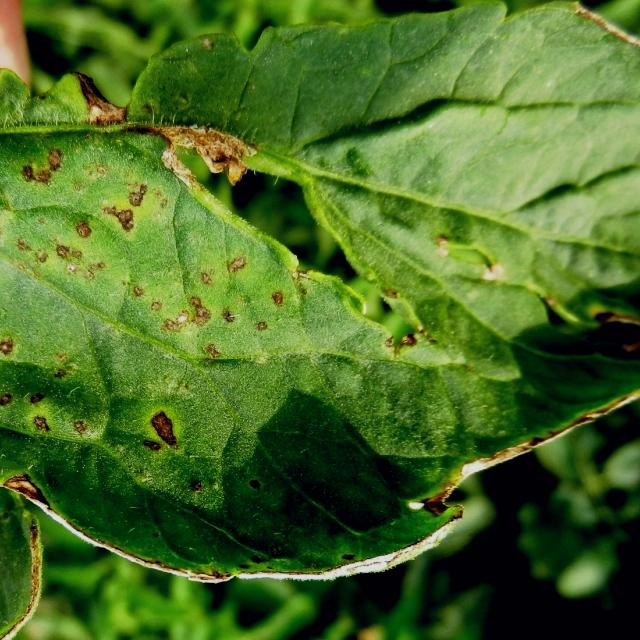Tomato leaf bacterial spot: (0, 19, 640, 613)
